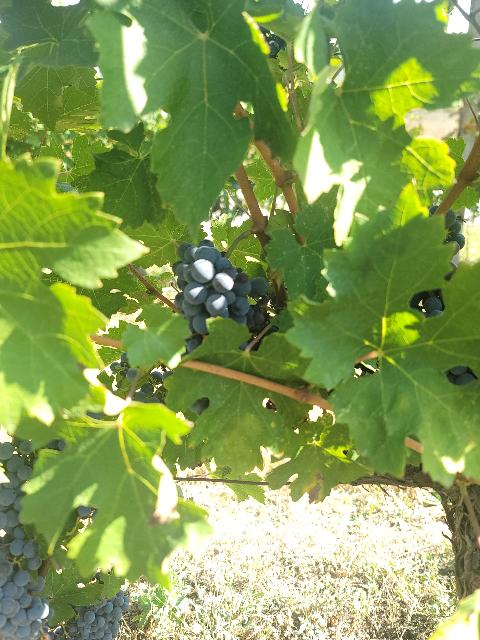grapes: (172, 240, 269, 332)
